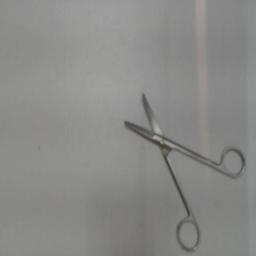Curved Mayo Scissors: (120, 87, 250, 255)
